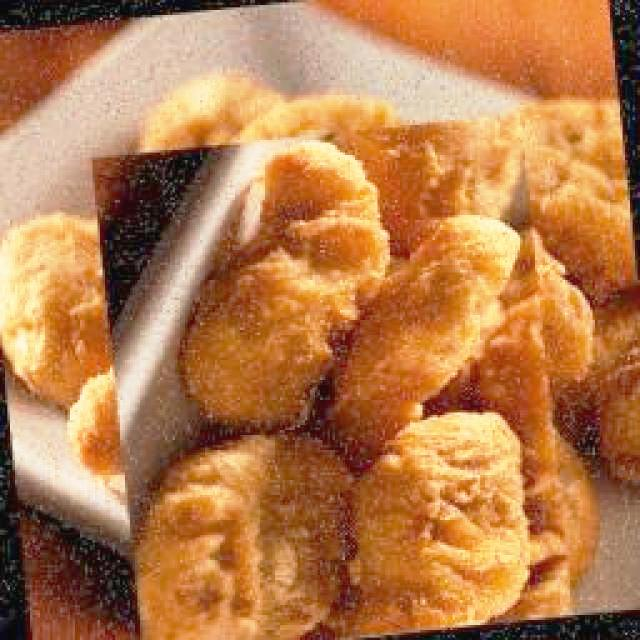chicken_nuggets: (185, 142, 391, 434), (328, 214, 523, 449), (140, 434, 354, 640), (351, 412, 530, 640), (510, 105, 639, 292), (2, 215, 102, 415)
